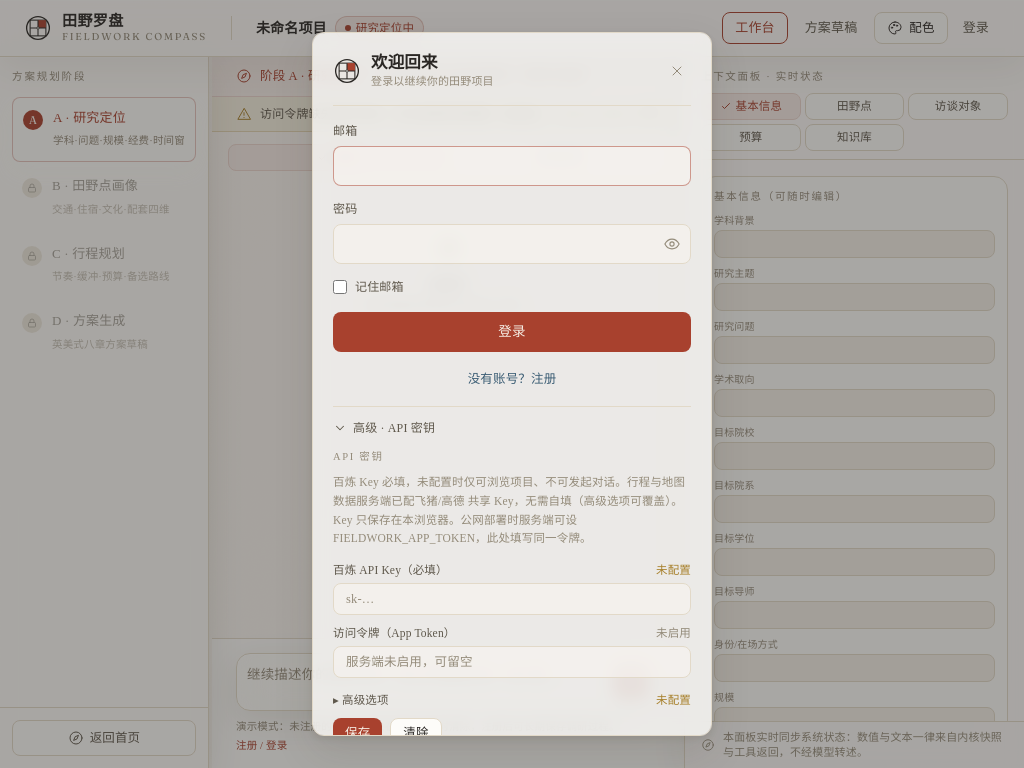
Scenario: Workspace 访问令牌 401（app_token_required）降级 › 未改令牌直接关闭弹层：不重试，横幅如实保留
Click the button named "关闭": (677, 71) [663,57,691,85]
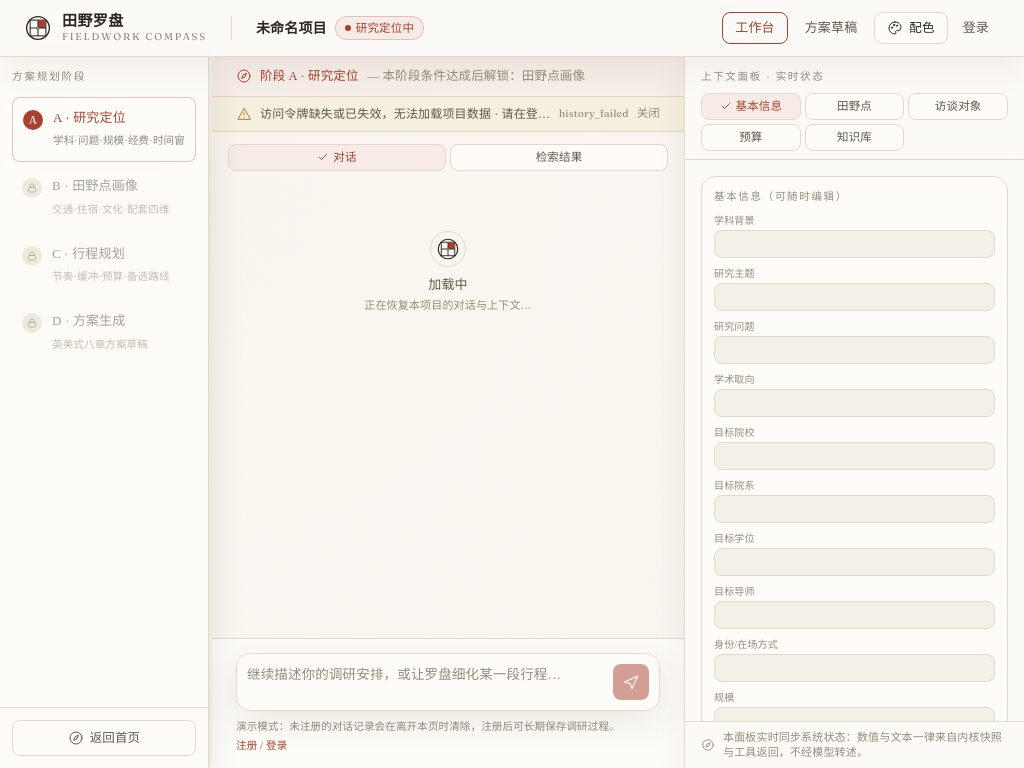
Expected: the text "访问令牌缺失或已失效，无法加载项目数据 · 请在登录窗「高级 · API 密钥」中填写访问令牌并保存" is shown, [260,105,551,123]
Result: the dialog "登录或注册" is gone
